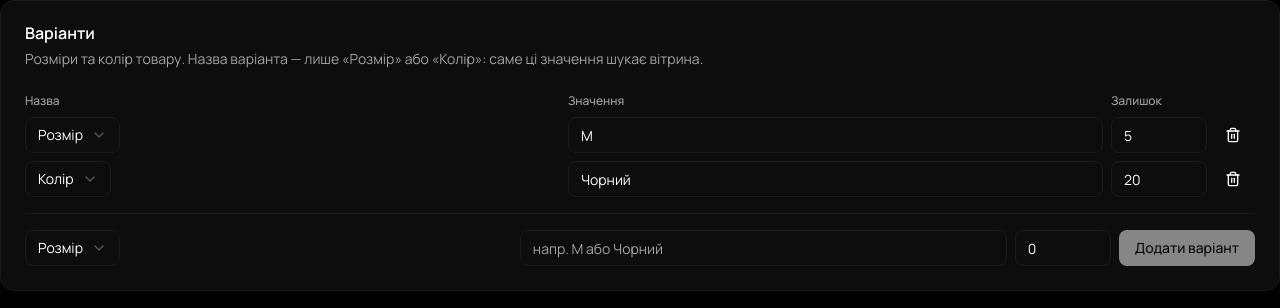
Test case: ProductVariantsSection › rolls back the optimistic edit on a failed PATCH by refetching the server's rows
Replace the text in the 2nd field named "Значення" with "Синій" at (836, 179), box 568,161 -> 1103,197
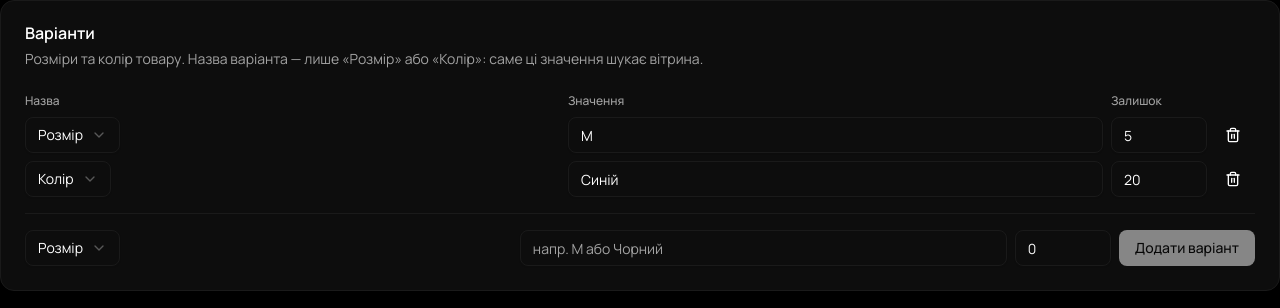
Leave the 2nd field named "Значення", box 568,161 -> 1103,197
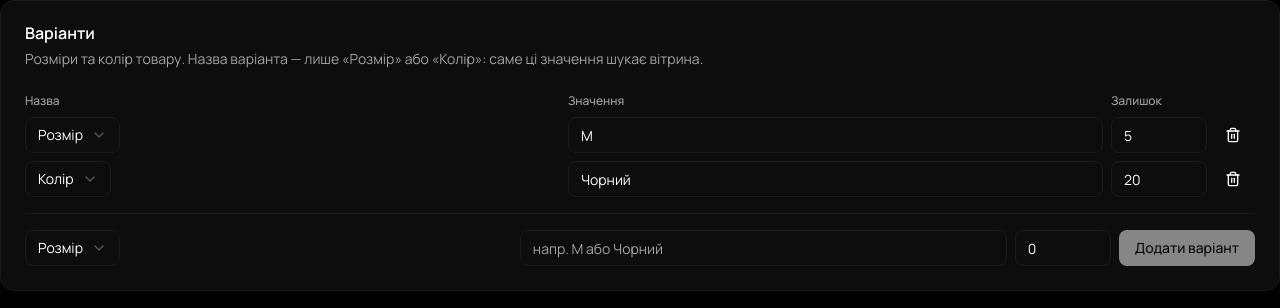
Check: the field showing "Синій" is not shown
Check: the 2nd field showing "Чорний" is shown, box 568,161 -> 1103,197
